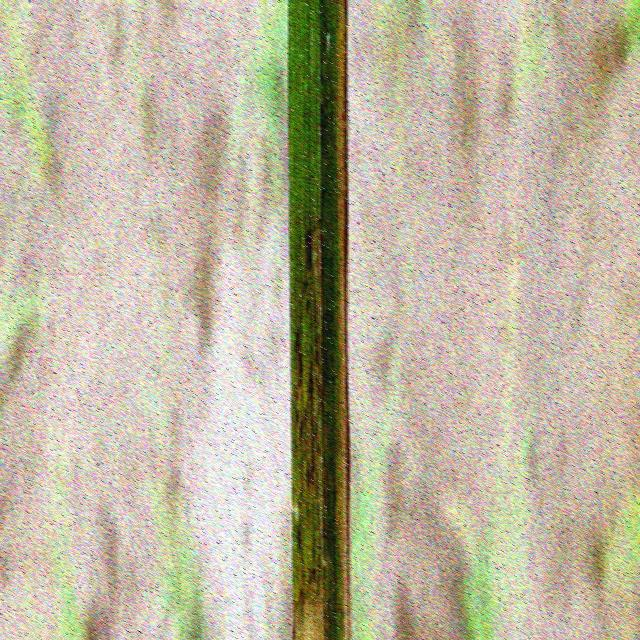BLB: (335, 0, 351, 638)
